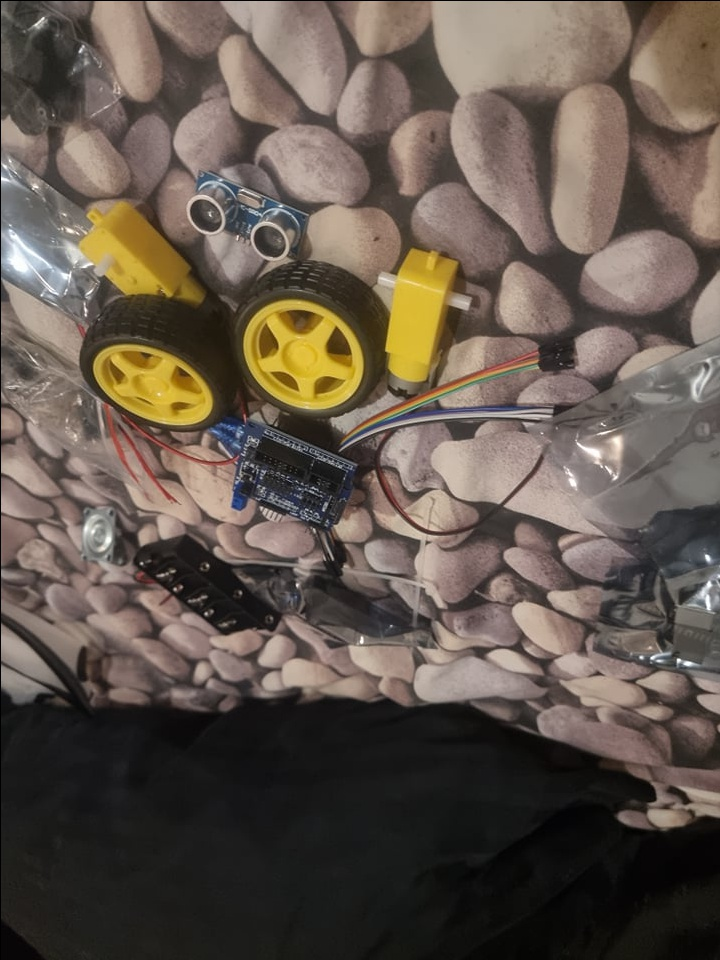5V EXPANSION: (229, 417, 360, 530)
BATTERY BOX: (132, 533, 274, 654)
SENSOR: (183, 177, 304, 261)
